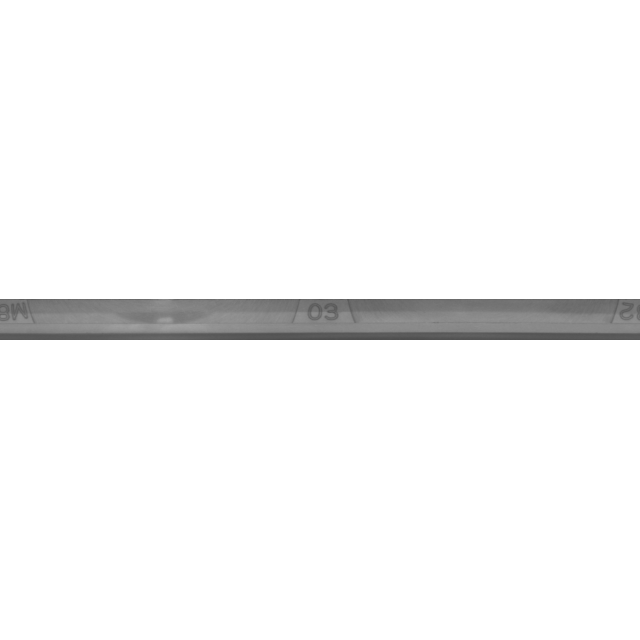mohao: (0, 270, 107, 370)
xuehao: (222, 270, 422, 370)
